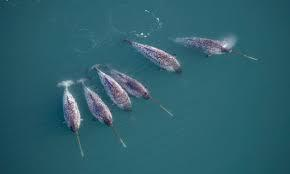swimmer: (104, 60, 178, 122), (75, 76, 128, 150), (118, 29, 190, 79), (53, 76, 91, 159), (166, 33, 263, 65), (86, 60, 136, 116)
